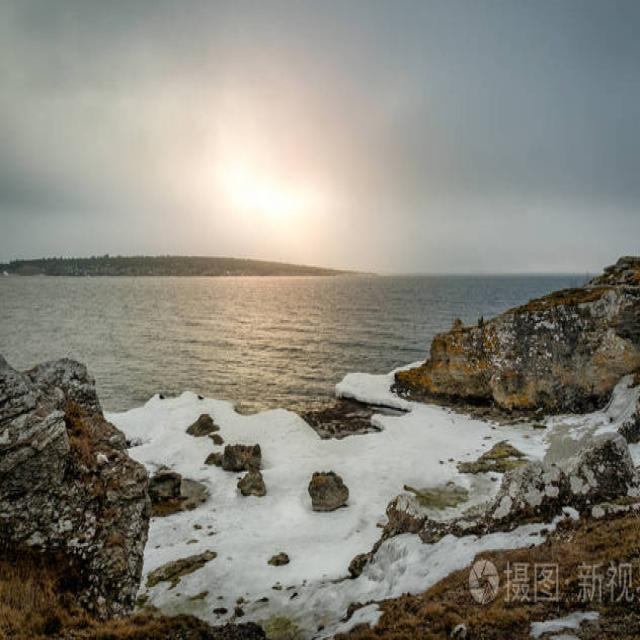reef: (0, 321, 260, 544), (388, 312, 640, 481)
